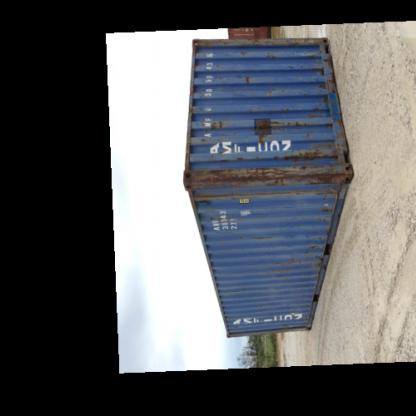Damage: (188, 164, 343, 194), (247, 104, 318, 142), (282, 240, 324, 272), (279, 144, 339, 166), (308, 62, 330, 94), (313, 200, 333, 228), (219, 44, 253, 60), (318, 98, 334, 132), (197, 116, 224, 134), (192, 194, 208, 224), (238, 234, 278, 245), (233, 71, 255, 89), (256, 85, 282, 99), (259, 52, 278, 66)
